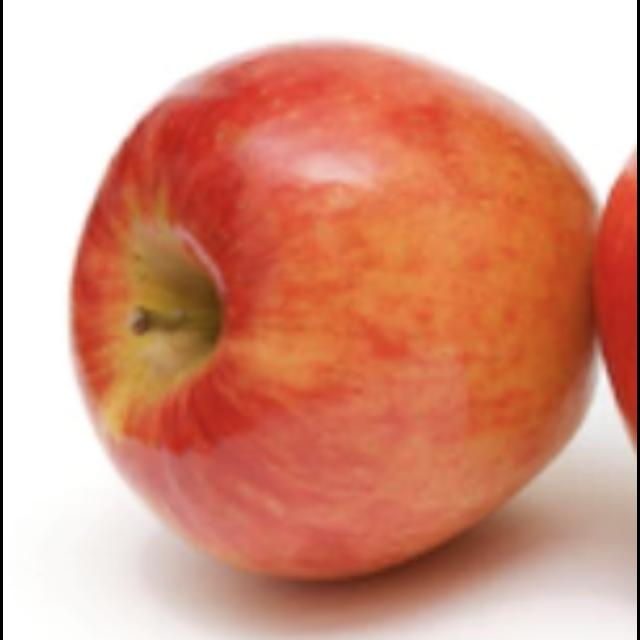Apel Segar: (64, 39, 601, 596)
